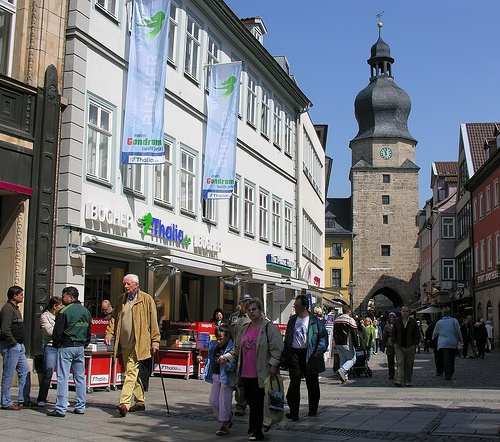head: (244, 297, 264, 324), (291, 293, 311, 318), (56, 286, 81, 306), (5, 286, 28, 305), (213, 325, 231, 349), (46, 294, 64, 315), (123, 274, 139, 297), (207, 306, 225, 323), (339, 304, 355, 320), (438, 306, 454, 321), (400, 305, 411, 322)
person: (81, 282, 414, 439), (109, 272, 159, 416), (231, 296, 281, 437), (281, 294, 327, 419), (46, 285, 89, 417), (1, 287, 33, 406), (205, 323, 235, 432), (34, 298, 62, 405), (428, 305, 462, 379), (390, 304, 418, 387), (331, 305, 358, 382), (381, 311, 395, 379), (356, 317, 373, 369), (460, 314, 474, 356), (472, 318, 485, 357), (373, 316, 382, 353), (484, 319, 493, 351), (99, 299, 112, 317)
